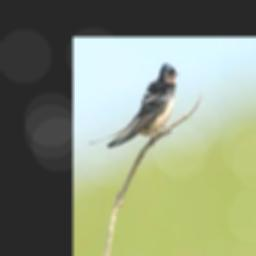Swallow: (89, 63, 179, 149)
